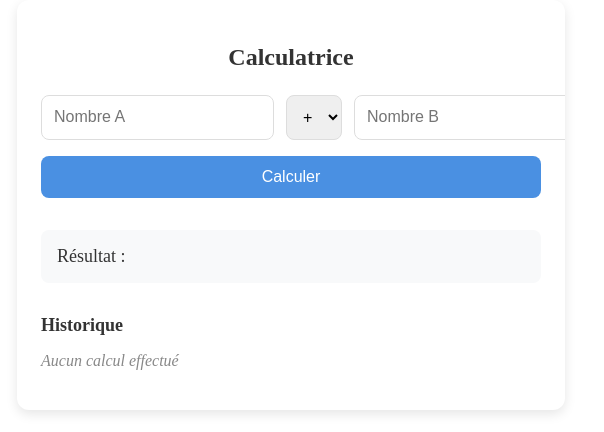
Test: Multiplication fonctionne correctement
This screenshot has width=604, height=432.
Type "5" into the field with placeholder "Nombre A" at point(158, 117), box [41,95,274,140]
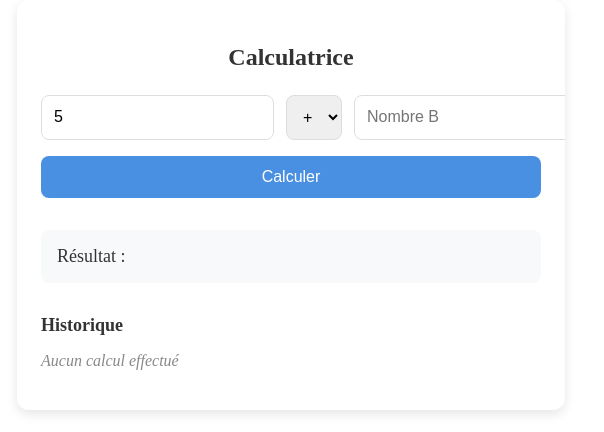
Type "3" into the field with placeholder "Nombre B" at point(470, 117), box [354,95,587,140]
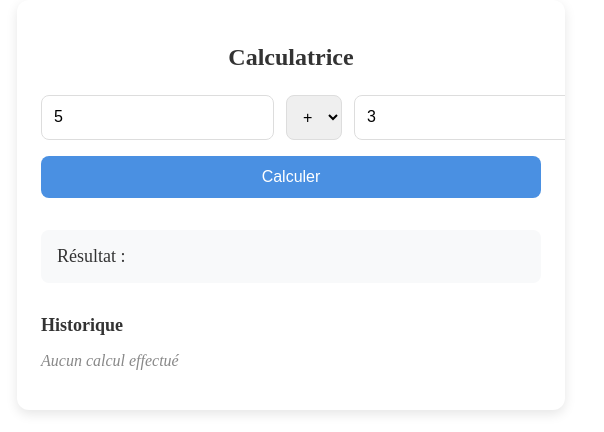
Select "×" in the dropdown at point(314, 117), box [286,95,342,140]
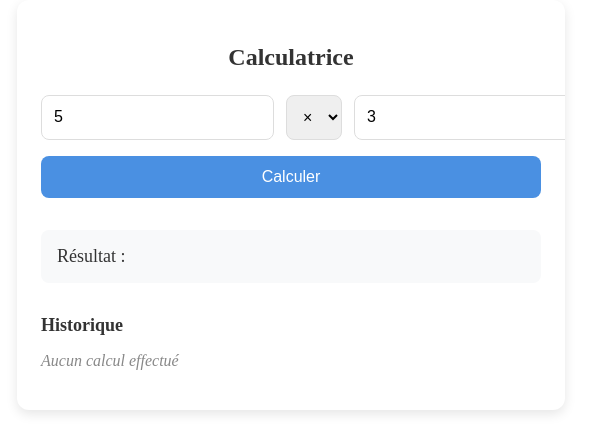
Click the button "Calculer" at point(291, 177), box [41,156,541,198]
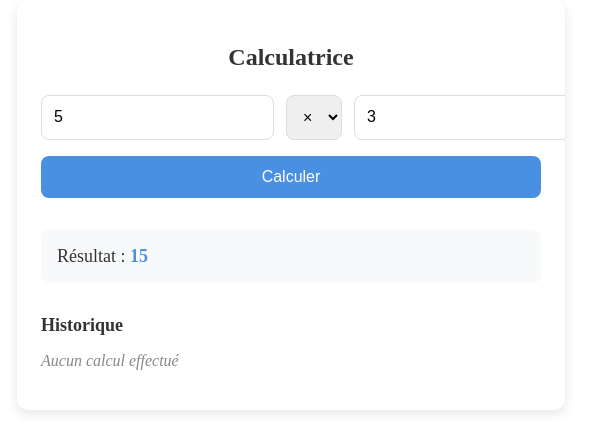
Expected: the text "Résultat : 15" is shown, [57,246,148,266]
